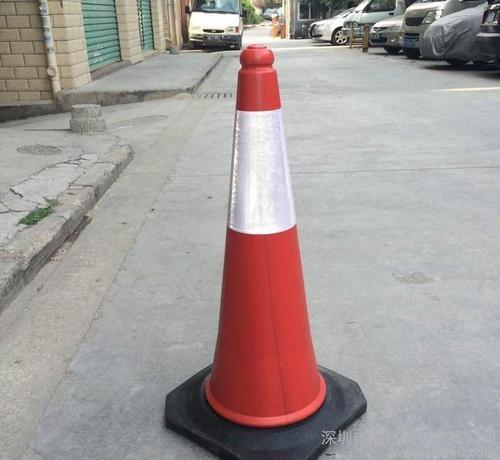cone_barrel: (187, 42, 337, 430)
